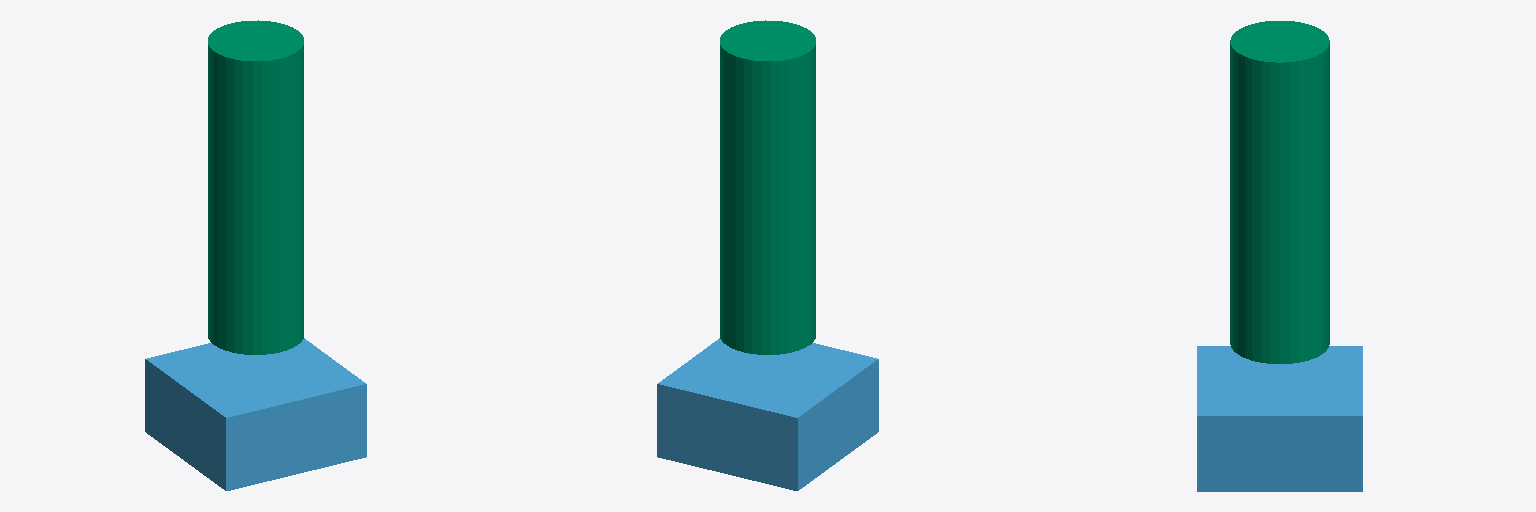
URDF robot description (mycobot_pp_test):
<?xml version="1.0"?>
<!--
  test_one_joint.urdf — minimal one-joint URDF for verifying mycobot_pp.

  Profile Position mode (CiA 402 mode 1). Drive does the trajectory
  generation; master streams target_position via 0x607A and toggles
  controlword bit 4 to commit each new setpoint.

  EDIT BEFORE RUNNING:
    1. <param name="ifname">       — your EtherCAT interface (`ip link`)
    2. <param name="counts_per_rad"> — encoder counts per output radian
-->
<robot name="mycobot_pp_test">

  <link name="world"/>

  <link name="base_link">
    <visual>
      <geometry><box size="0.1 0.1 0.05"/></geometry>
    </visual>
  </link>

  <joint name="base_fixed" type="fixed">
    <parent link="world"/>
    <child  link="base_link"/>
  </joint>

  <link name="link_1">
    <visual>
      <geometry><cylinder length="0.2" radius="0.03"/></geometry>
      <origin xyz="0 0 0.1"/>
    </visual>
  </link>

  <joint name="joint_1" type="continuous">
    <parent link="base_link"/>
    <child  link="link_1"/>
    <origin xyz="0 0 0.05" rpy="0 0 0"/>
    <axis xyz="0 0 1"/>
    <limit effort="100" velocity="2.0"/>
  </joint>

  <ros2_control name="MyCobotPPSystem" type="system">

    <hardware>
      <plugin>mycobot_pp/MyCobotPP</plugin>
      <param name="ifname">enxc8a3623069bf</param>
    </hardware>

    <joint name="joint_1">
      <param name="slave_index">1</param>
      <param name="counts_per_rad">2085932.0</param>

      <command_interface name="position">
        <param name="min">-100.0</param>
        <param name="max"> 100.0</param>
      </command_interface>
      <state_interface name="position"/>
      <state_interface name="velocity"/>
    </joint>

  </ros2_control>

</robot>

--- Render facts (derived) ---
Views: 3 orthographic renders of the robot side by side, from view 1: azimuth 30°, elevation 25°; view 2: azimuth 150°, elevation 25°; view 3: azimuth 270°, elevation 25°.
Robot: mycobot_pp_test — 3 links, 2 joints (1 continuous, 1 fixed); root link world; default pose: every joint at zero.
Links seen in each view (by area): view 1: link_1, base_link; view 2: link_1, base_link; view 3: link_1, base_link.
Boxes of the visible links, box(x1,y1,x2,y2) form: link_1: box(208, 20, 303, 354); base_link: box(145, 338, 366, 490); link_1: box(720, 20, 815, 354); base_link: box(657, 338, 878, 490); link_1: box(1230, 21, 1329, 363); base_link: box(1197, 346, 1362, 491).
Bounding box of the posed robot: 0.1 × 0.1 × 0.275 m (x, y, z).
Geometry: primitives only (box / cylinder / sphere), no mesh files.
